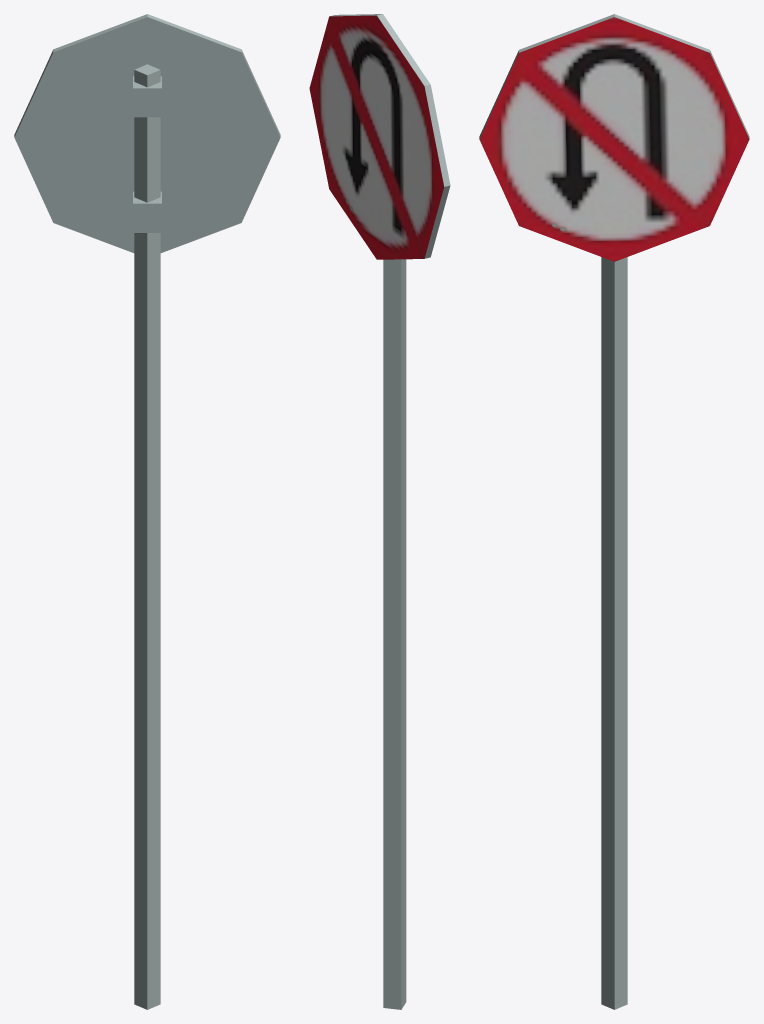
File: traffic sign 3.fbx
The picture shows the model from 3 angles, left to right: view 1: azimuth 90°, elevation 25°; view 2: azimuth 210°, elevation 25°; view 3: azimuth 270°, elevation 25°; orthographic projection.
Parts seen in each view (by area): view 1: sign cycle form; view 2: sign cycle form; view 3: sign cycle form.
Part boxes in pixels (x1=…): sign cycle form: x1=14, y1=14, x2=280, y2=1009; sign cycle form: x1=309, y1=14, x2=450, y2=1009; sign cycle form: x1=479, y1=14, x2=749, y2=1009.
Bounding box in the file's own units: 6.21 × 189 × 46.53.
